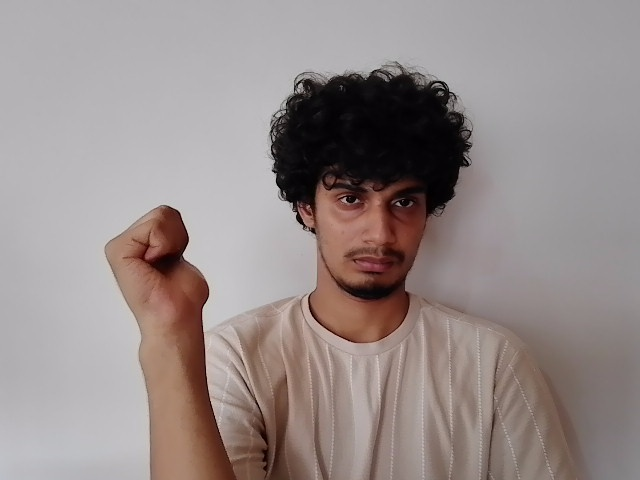how: (99, 205, 218, 322)
